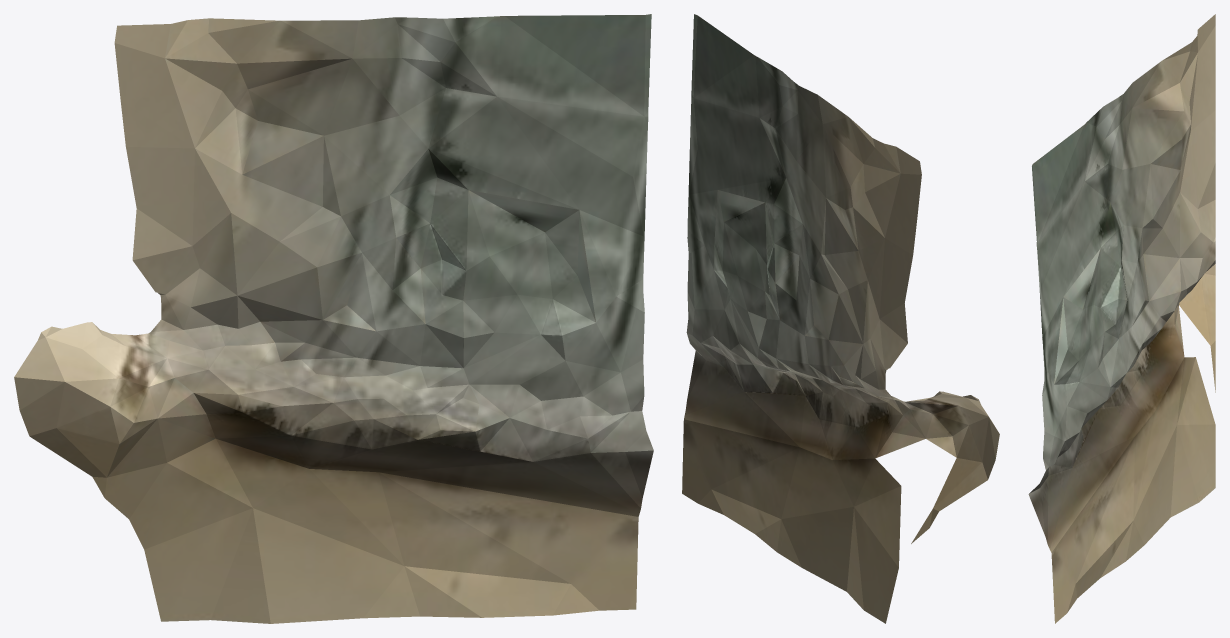
The picture shows the model from 3 angles, left to right: view 1: azimuth 30°, elevation 25°; view 2: azimuth 150°, elevation 25°; view 3: azimuth 270°, elevation 25°; orthographic projection. The views are drawn at different scales.
Bounding box in the file's own units: 0.7449 × 0.8374 × 0.31.
2 materials, 2 textured.
